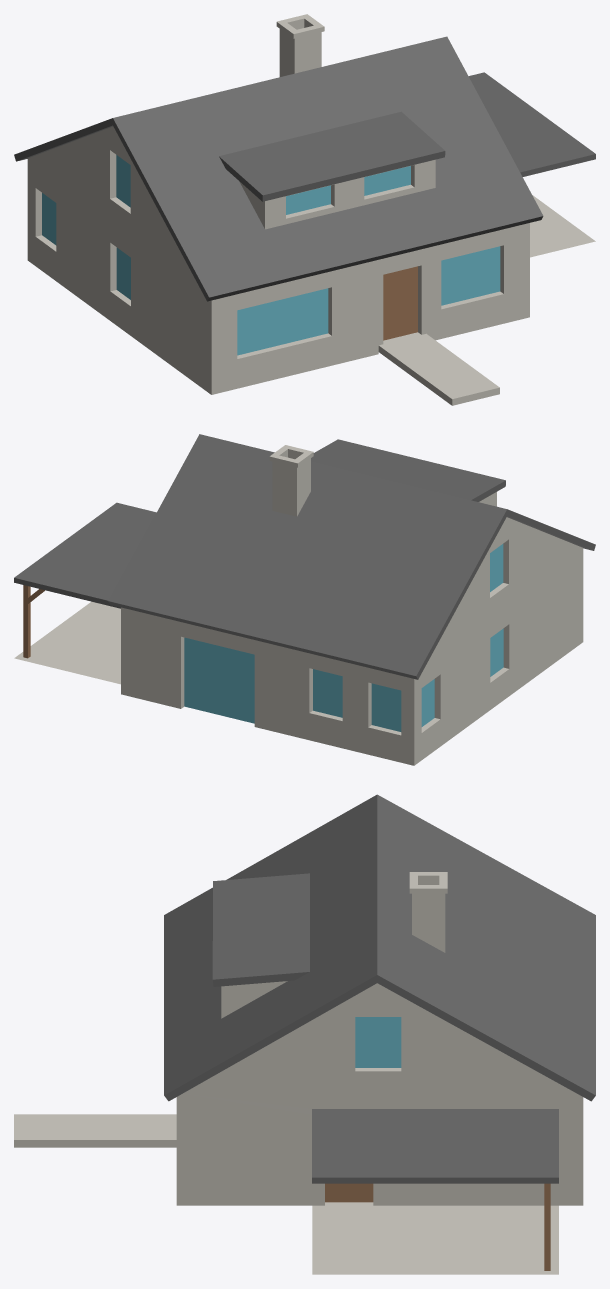
Rendered from house_small_carport.gltf.
3 renders of one model, top to bottom at view 1: azimuth 30°, elevation 25°; view 2: azimuth 150°, elevation 25°; view 3: azimuth 270°, elevation 25°, orthographic. The views are drawn at different scales.
Parts seen in each view (by area): view 1: house-small-carport-left_Cube.006, doorway walkup.005, chimney.005; view 2: house-small-carport-left_Cube.006, chimney.005; view 3: house-small-carport-left_Cube.006, doorway walkup.005, chimney.005.
Part boxes in pixels (x1=…): house-small-carport-left_Cube.006: x1=14, y1=36, x2=595, y2=394; doorway walkup.005: x1=378, y1=332, x2=499, y2=405; chimney.005: x1=276, y1=14, x2=324, y2=76; house-small-carport-left_Cube.006: x1=14, y1=434, x2=595, y2=765; chimney.005: x1=269, y1=445, x2=313, y2=516; house-small-carport-left_Cube.006: x1=164, y1=794, x2=595, y2=1274; doorway walkup.005: x1=14, y1=1114, x2=176, y2=1147; chimney.005: x1=409, y1=872, x2=447, y2=952.
Bounding box in the file's own units: 7.13 × 3.57 × 7.16.
1 material, 1 textured.
